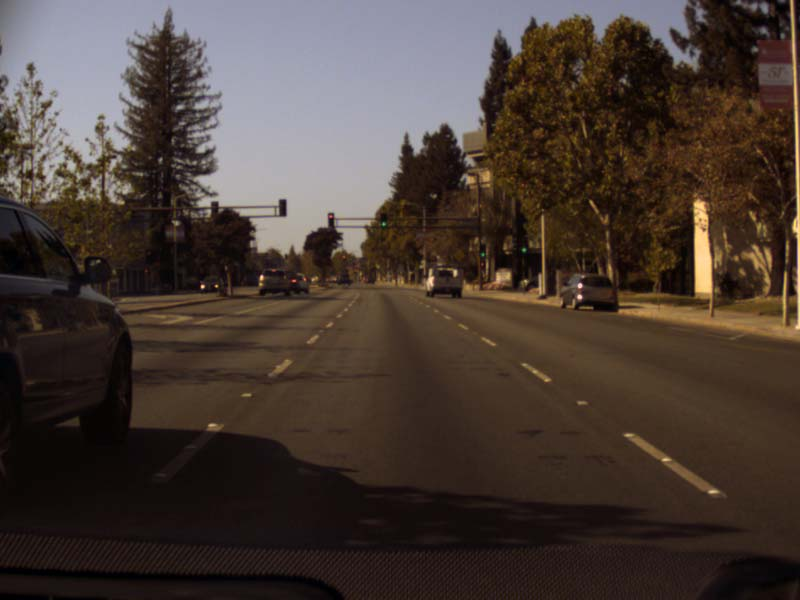Green: (520, 237, 527, 253), (478, 244, 486, 257), (380, 213, 386, 227)
Red: (326, 212, 333, 224)
Yellow: (480, 257, 484, 267), (341, 254, 345, 259)
